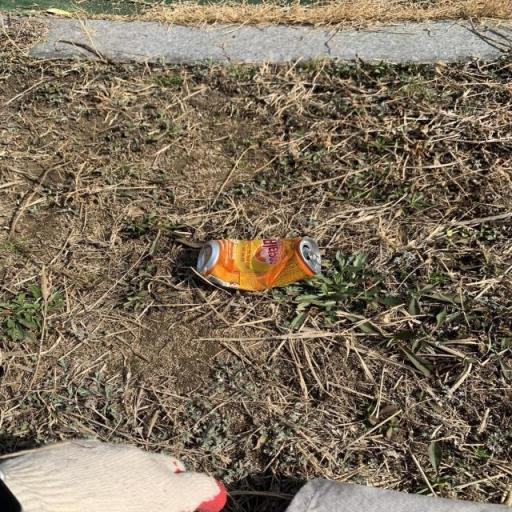metal: (172, 208, 338, 310)
